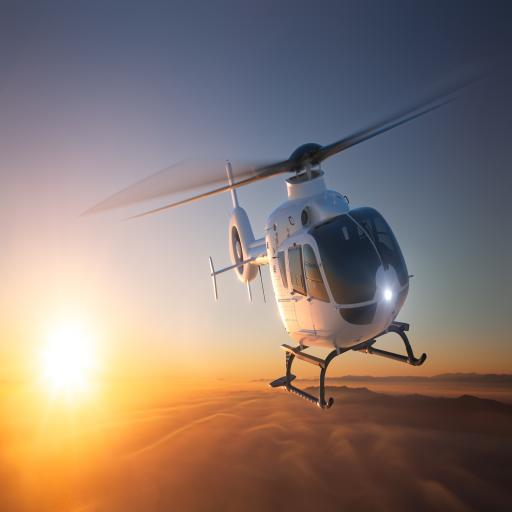helicopter: (91, 130, 432, 417)
